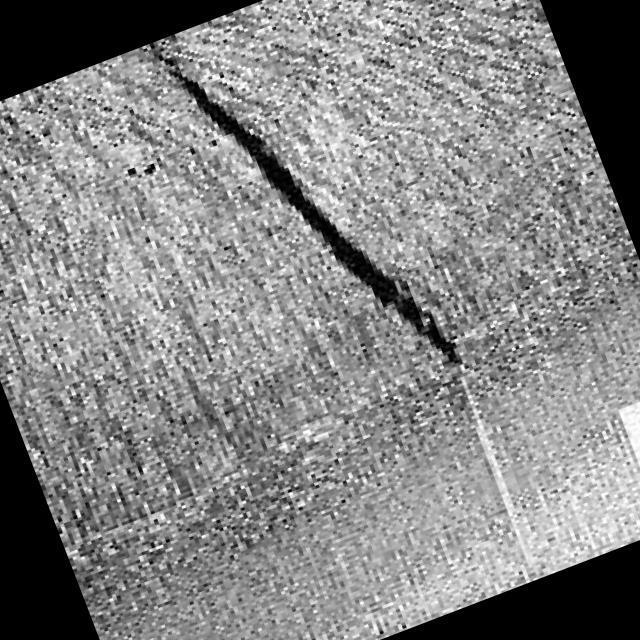defect: (139, 40, 464, 376)
